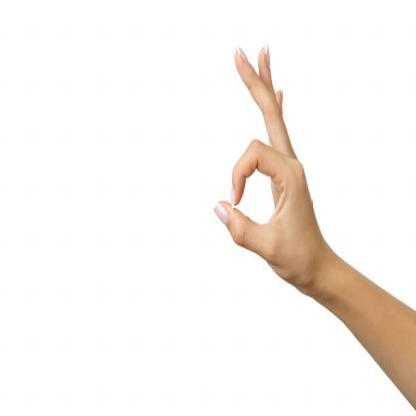ok: (210, 39, 314, 279)
